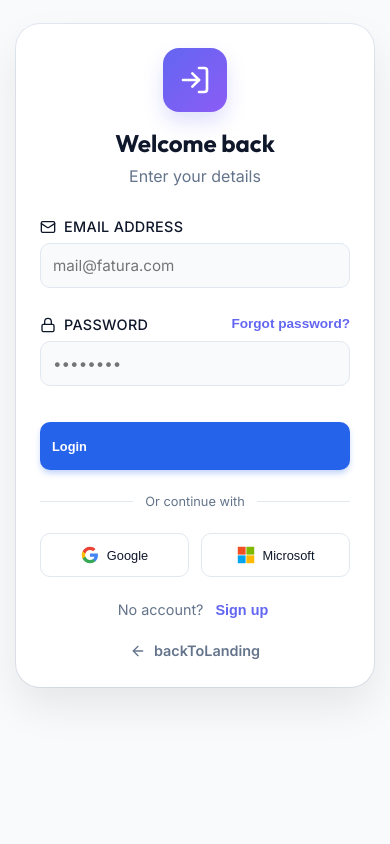
it: Auth page integration › sends a password reset link for the entered email
The width and height of the screenshot is (390, 844).
Type "user@example.com" into the field with placeholder "mail@fatura.com".
click(195, 266); type("user@example.com")  # box [40,243,350,288]
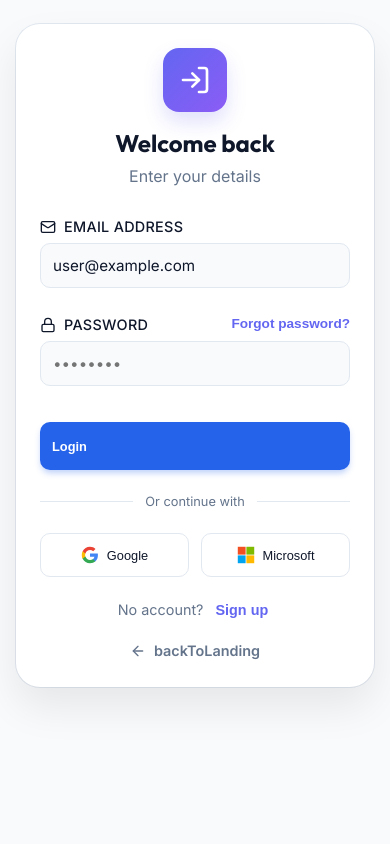
Click the button "Forgot password?".
click(291, 324)  # box [231,316,350,333]
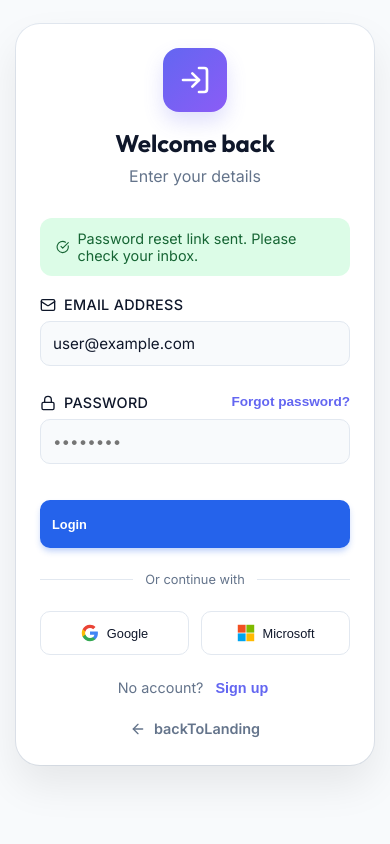
Check: the text "Password reset link sent. Please check your inbox." is shown, box [40,218,350,276]
